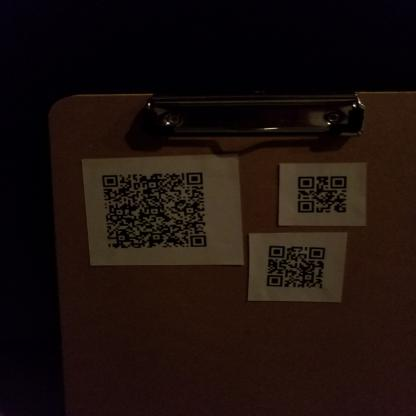qr: (100, 170, 209, 252), (262, 242, 327, 291), (297, 172, 350, 216)
